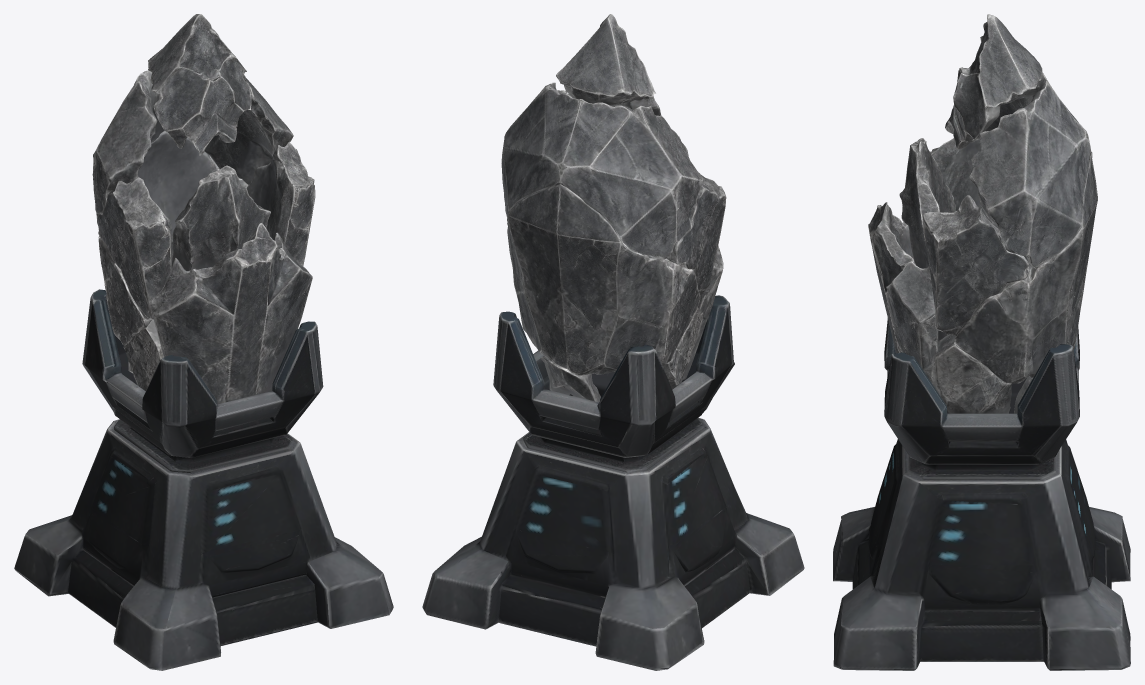
The model's file is obj_power_crystal_broken.glb.
3 views of the same model, side by side, from view 1: azimuth 30°, elevation 25°; view 2: azimuth 150°, elevation 25°; view 3: azimuth 270°, elevation 25° (orthographic). The views are drawn at different scales.
Size of the model in its own units: 0.4272 by 0.9507 by 0.4316.
Materials: 1 (1 with a texture image).
